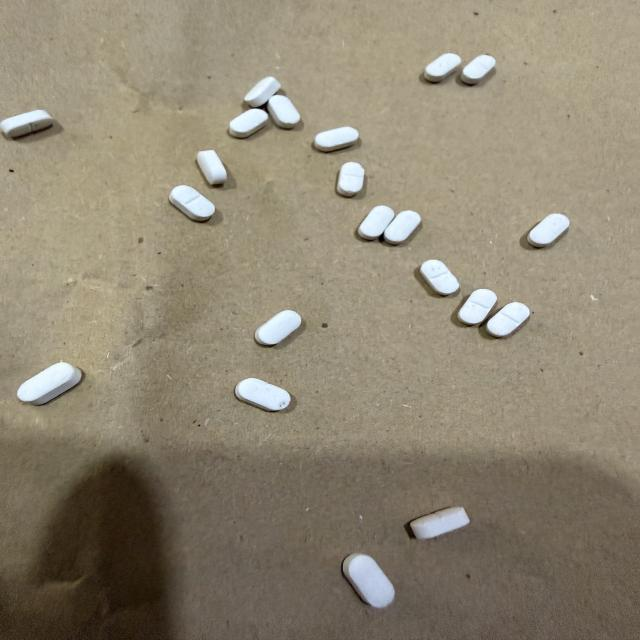pill: (343, 554, 394, 607), (18, 363, 81, 405), (410, 507, 469, 539), (235, 379, 290, 411), (255, 310, 301, 346), (169, 185, 215, 221), (487, 302, 529, 337), (0, 110, 53, 137), (458, 289, 496, 325), (420, 260, 459, 295), (528, 214, 569, 247), (384, 210, 420, 244), (358, 206, 394, 240), (229, 109, 268, 138), (460, 54, 496, 85), (268, 95, 300, 128), (245, 77, 280, 107), (425, 53, 461, 82), (315, 127, 358, 151), (197, 150, 227, 184), (337, 162, 364, 197)
